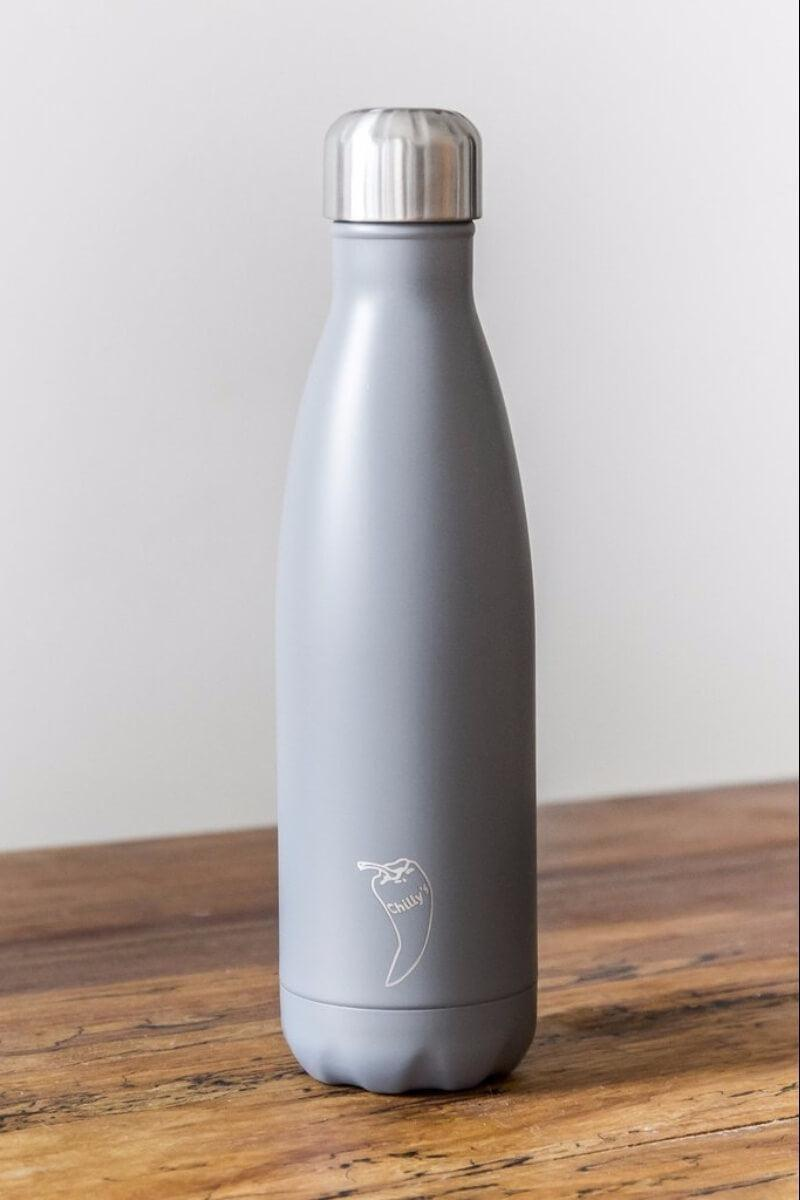gym bottle: (263, 90, 551, 1097)
